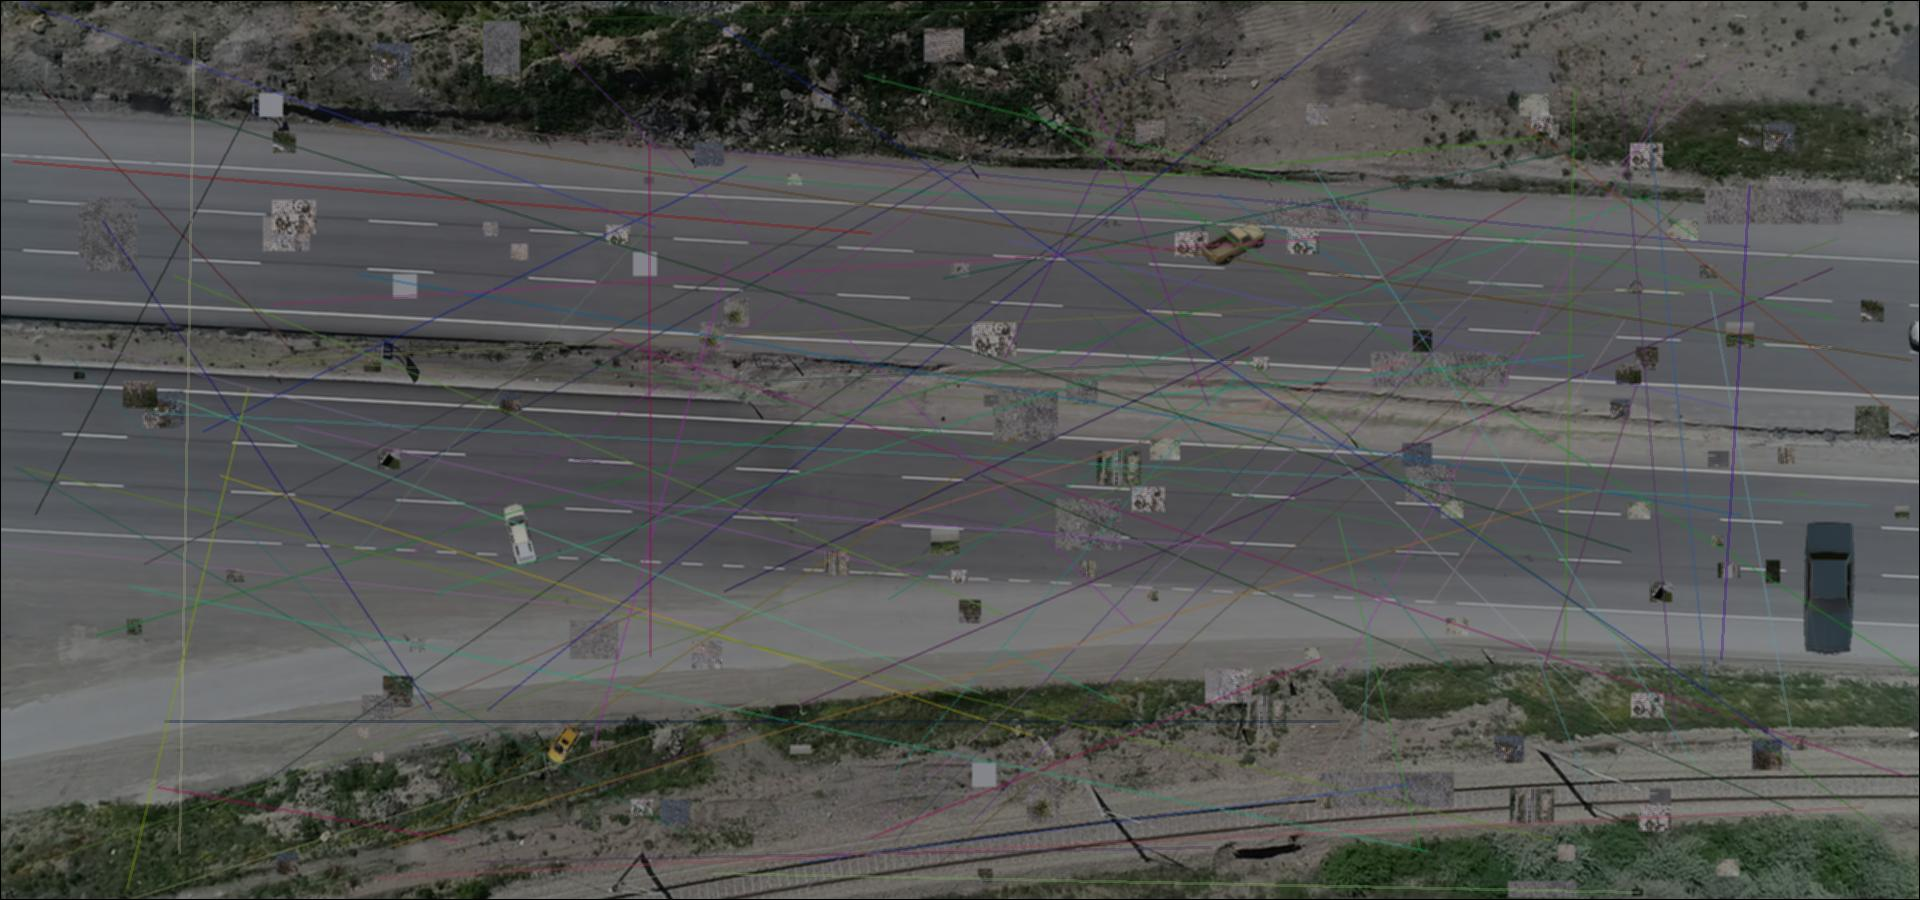arac: (1800, 520, 1858, 655), (1201, 220, 1266, 264), (501, 501, 540, 564), (546, 724, 582, 764)
